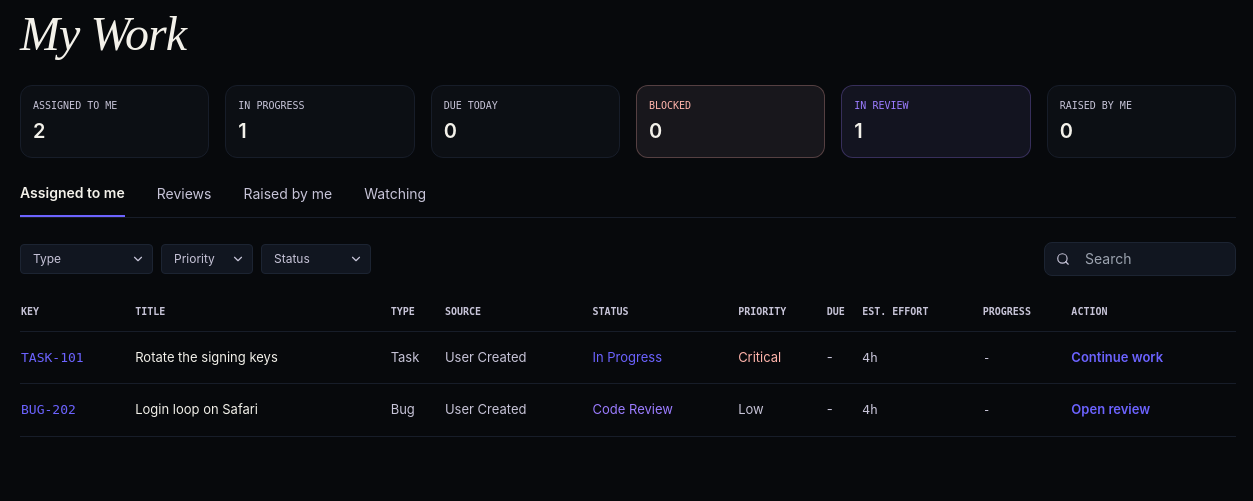
MyWorkPage › narrows the list with the priority filter, and says so when nothing matches
expect the link "Rotate the signing keys" is shown: met, box [135,349,278,365]
Select "Low" in the 2nd dropdown named "Priority" at (207, 259), box [161,244,253,274]
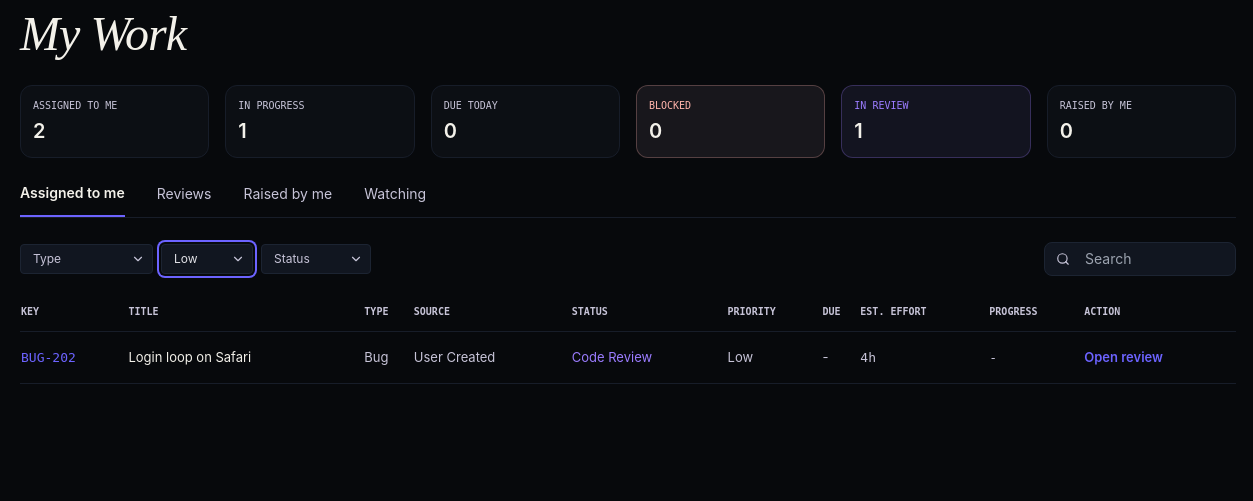
expect the link "Login loop on Safari" is shown: met, box [128,349,251,365]
expect the link "Rotate the signing keys" is gone: met
Select "Critical" in the 2nd dropdown named "Priority" at (207, 259), box [161,244,253,274]
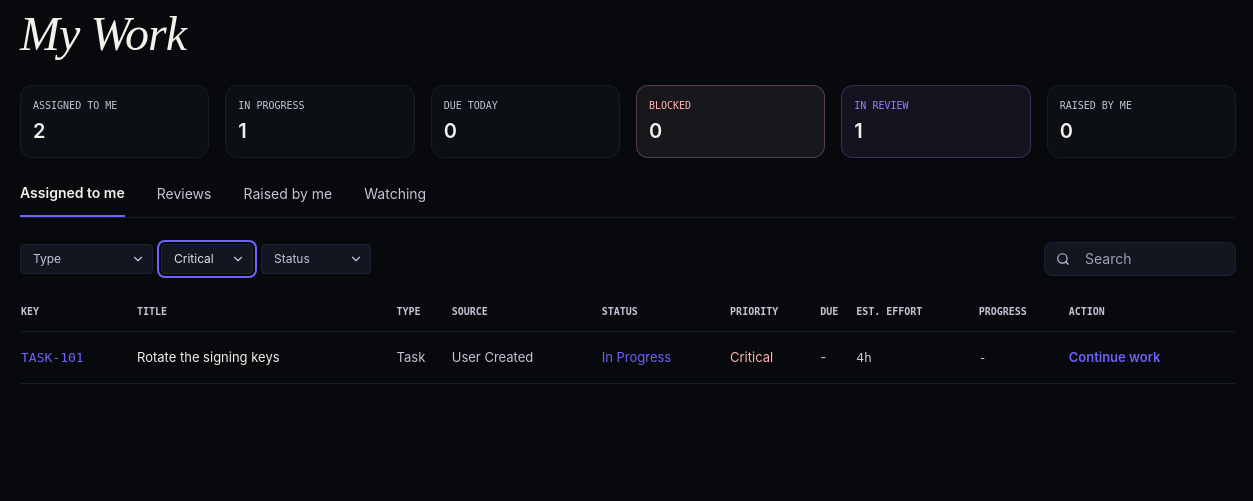
Select "Bug" in the 1st dropdown named "Type" at (86, 259), box [20,244,153,274]
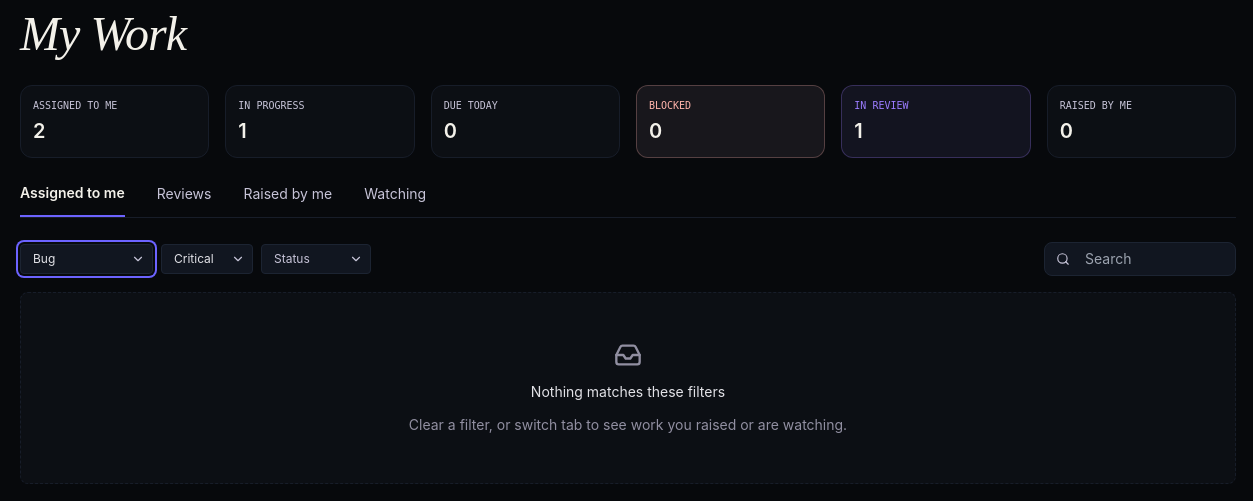
expect the heading "Nothing matches these filters" is shown: met, box [531,381,725,402]
